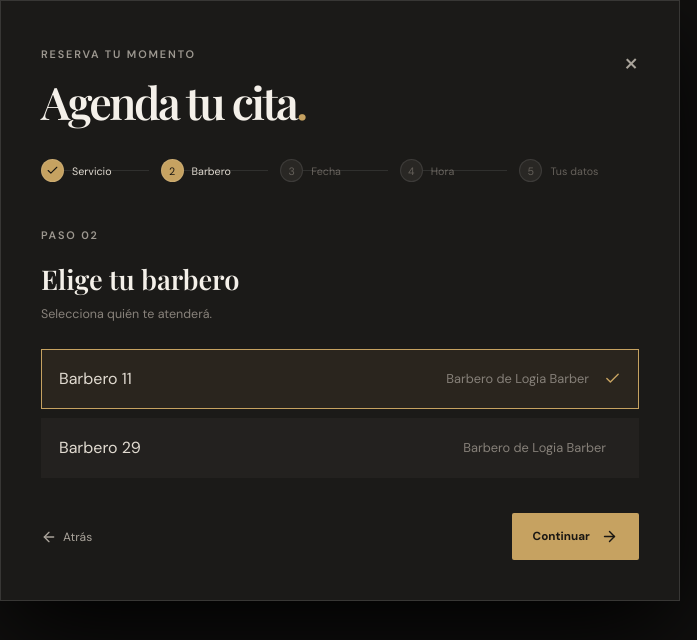
shows an empty state when all slots are unavailable
The width and height of the screenshot is (697, 640).
Step 1. Click the button "Continuar" → {"x": 575, "y": 537}, box [512,513,639,560]
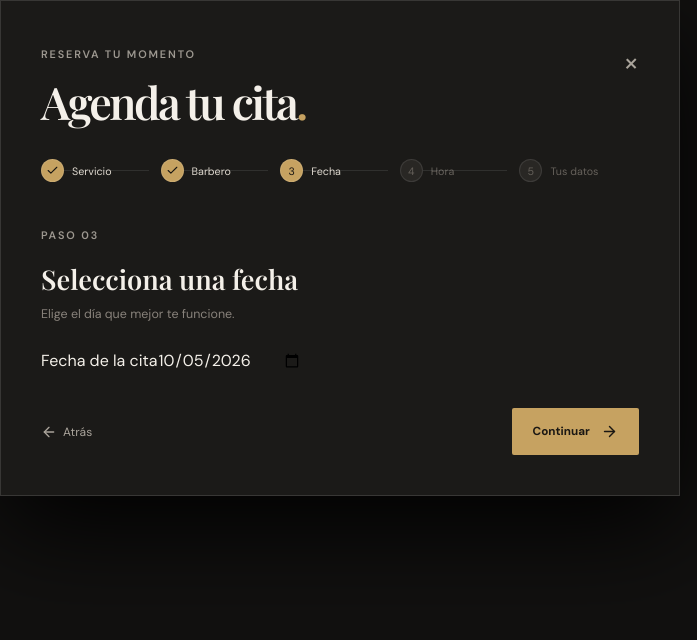
Step 2. Click the button "Continuar" → {"x": 575, "y": 432}, box [512,408,639,455]
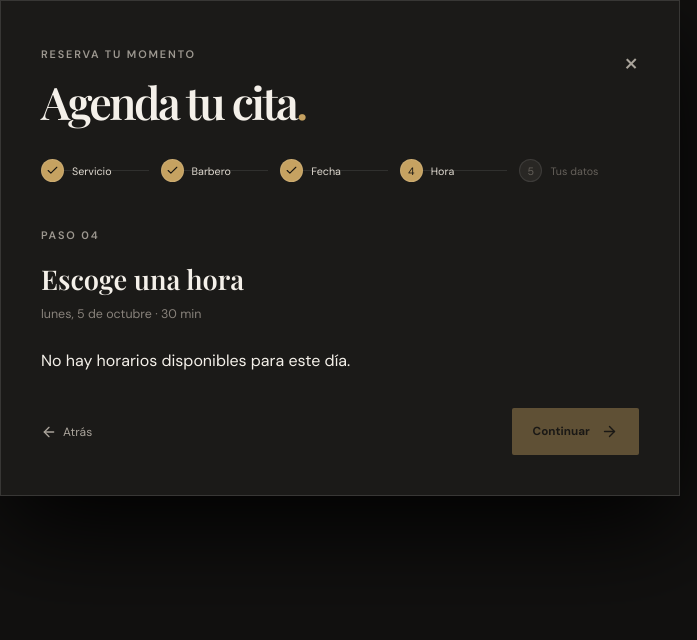
Expected: the text "No hay horarios disponibles para este día." is shown, [41,350,350,371]
Expected: the button "Continuar" is disabled, [512,408,639,455]
